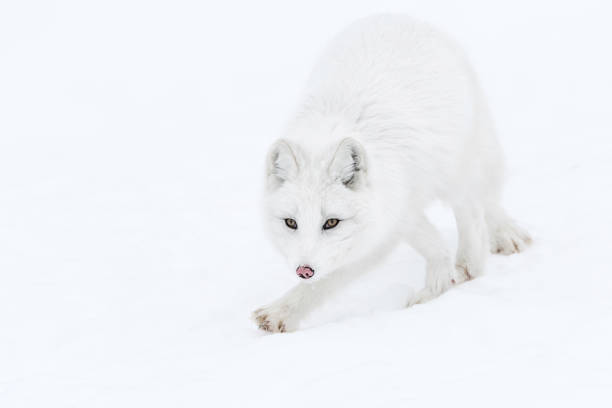arcticfox: (267, 185, 369, 300)
